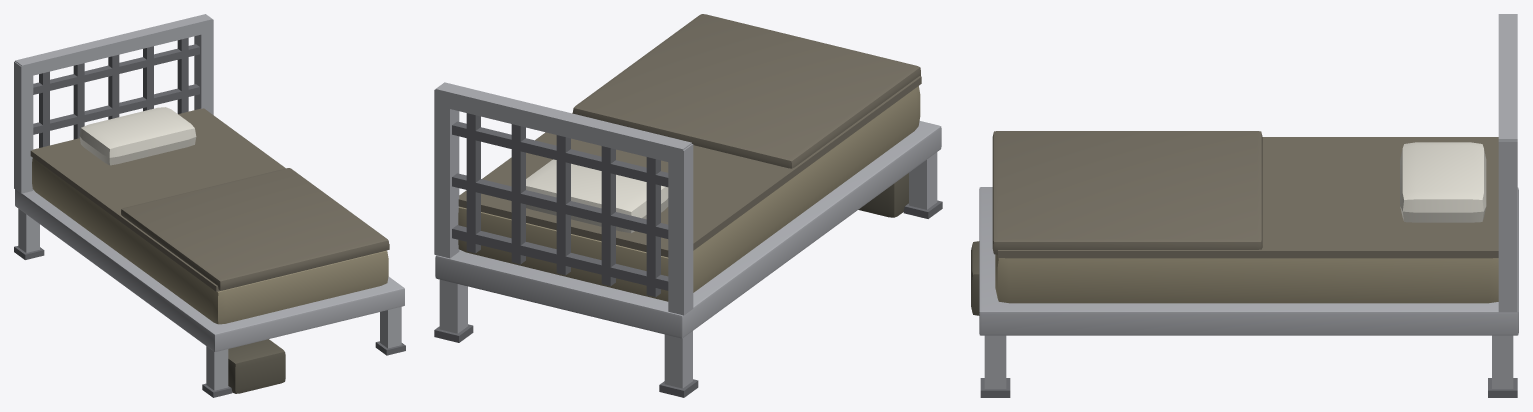
File: DD_bed.fbx
The picture shows the model from 3 angles, left to right: view 1: azimuth 30°, elevation 25°; view 2: azimuth 150°, elevation 25°; view 3: azimuth 270°, elevation 25°; orthographic projection. The views are drawn at different scales.
Visible parts, largest first — view 1: DD_bed; view 2: DD_bed; view 3: DD_bed.
Part boxes in pixels (left/top/right/bottom): DD_bed: left=14, top=14, right=405, bottom=397; DD_bed: left=434, top=14, right=942, bottom=397; DD_bed: left=971, top=14, right=1518, bottom=397.
Bounding box in the file's own units: 1.11 × 1.05 × 2.03.
